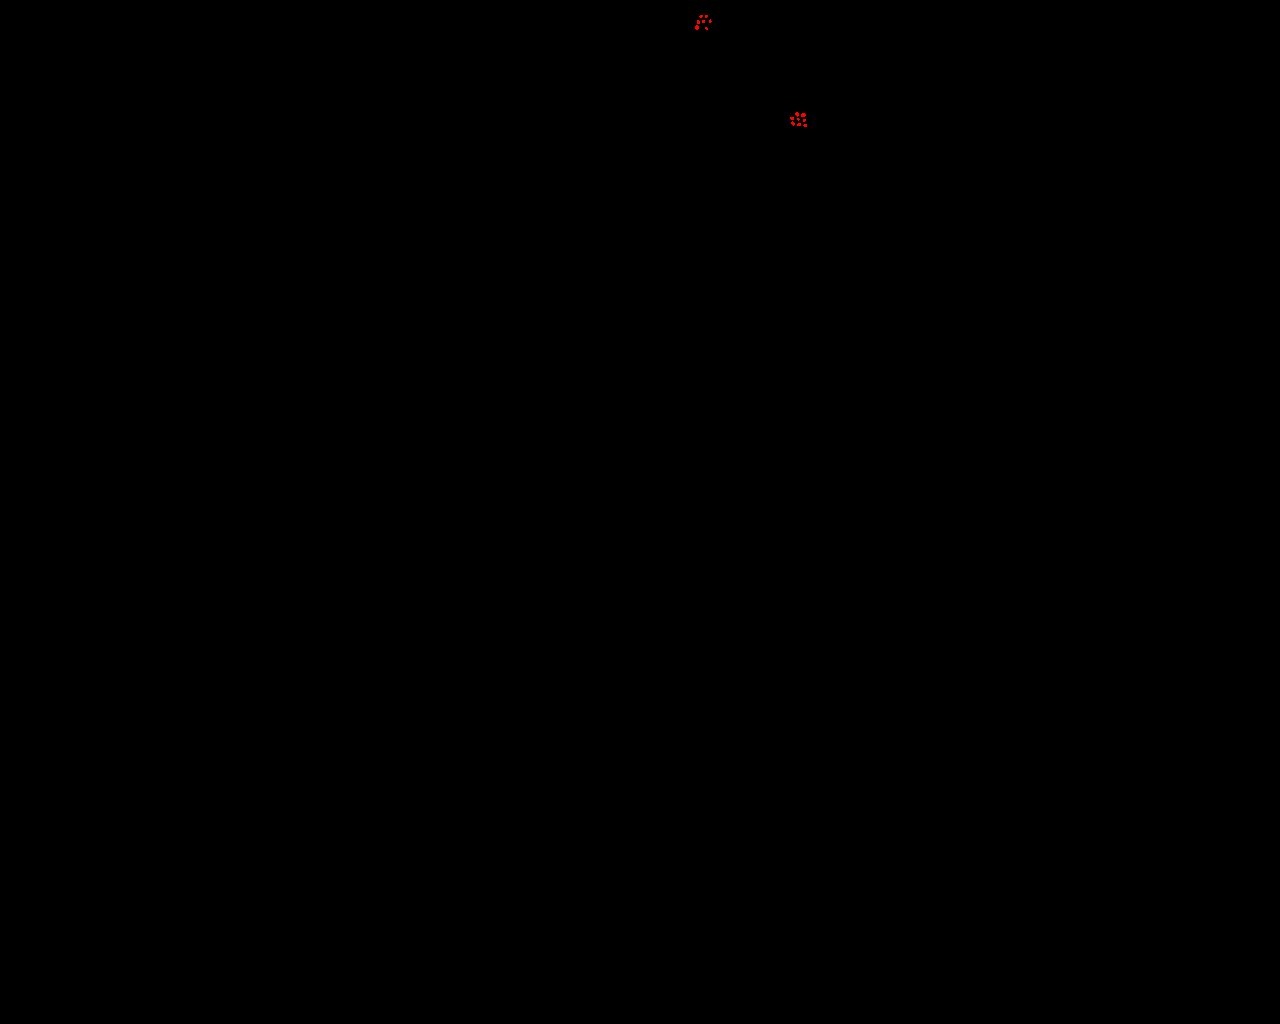Target: (695, 25, 699, 30), (795, 112, 799, 117), (791, 121, 795, 126), (801, 113, 806, 117), (699, 15, 703, 18), (697, 20, 700, 24), (790, 117, 794, 120), (797, 123, 801, 126), (802, 124, 807, 127), (705, 15, 708, 18), (702, 20, 705, 23), (705, 27, 708, 30), (797, 118, 800, 121), (802, 119, 806, 122), (709, 19, 712, 23)
